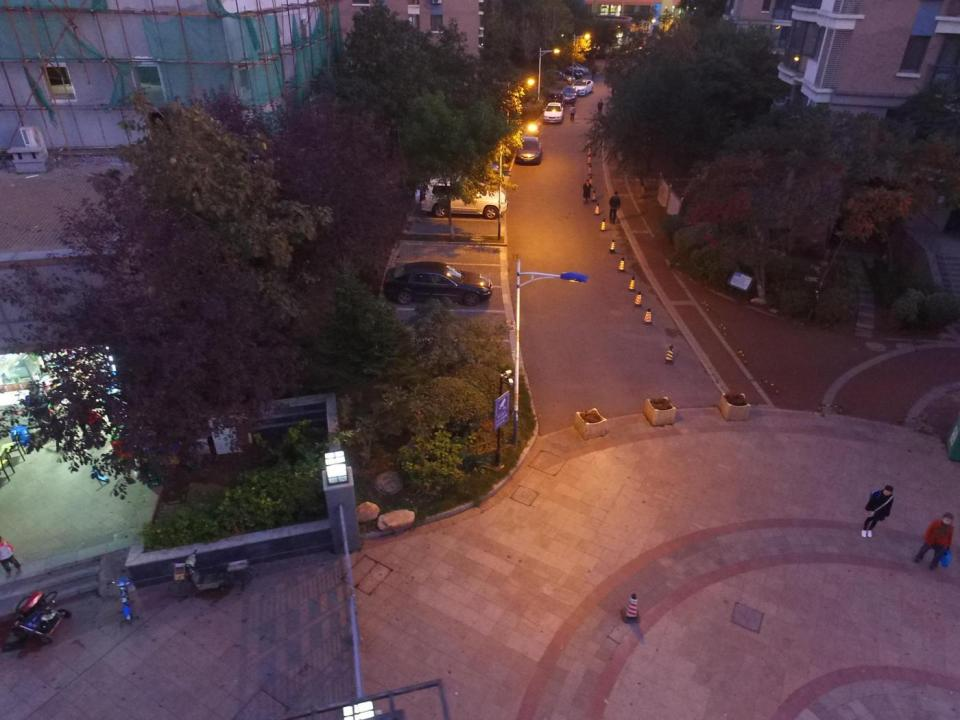car: (380, 261, 494, 308), (412, 176, 510, 218), (517, 134, 545, 168), (544, 100, 564, 126), (544, 68, 574, 85), (572, 77, 594, 97), (559, 65, 582, 78), (567, 61, 589, 74), (563, 84, 578, 103)
van: (549, 90, 565, 106)
